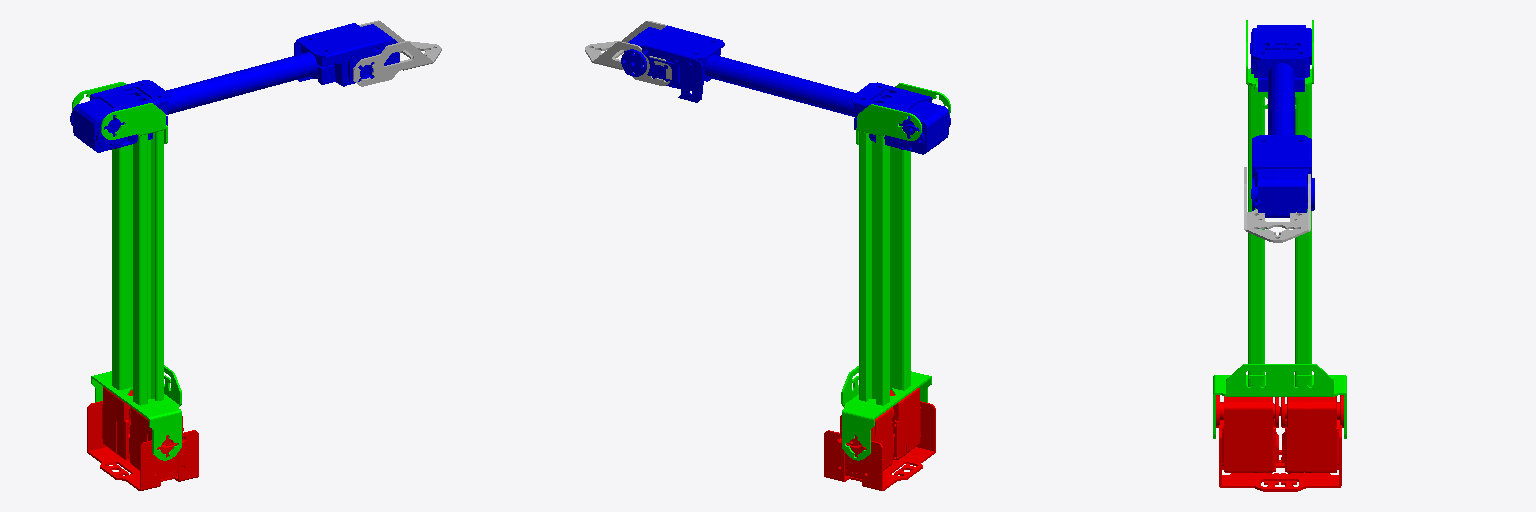
The robot description file, URDF, robot "roarm":
<?xml version="1.0" encoding="utf-8"?>
<!-- Aquí comienza el robot -->
<robot name="roarm">

 <link name="world">
    </link>

    <joint name="world_joint" type="fixed">
        <parent link="world"/>
        <child link="base_link"/>
        <origin xyz="0 0 0" rpy="0 0 0"/>
    </joint>


    <link name="base_link">
        <visual>
            <origin xyz="0.0 0.0 0.0" rpy="0 0 0" />
            <geometry>
                <mesh filename="package://roarm_description/meshes/base.stl" scale="0.001 0.001 0.001"/>
            </geometry>
            <material name="grey">
                <color rgba="0.1 0.1 0.1 1.0" />
            </material>
        </visual>
        <collision>
            <origin xyz="0.0 0.0 0.0" rpy="0 0 0" />
            <geometry>
                <mesh filename="package://roarm_description/meshes/base.stl" scale="0.001 0.001 0.001" />
            </geometry>
        </collision>
        <inertial>
            <origin xyz="0.0281 -0.0095 0.0343" rpy="0 0 0"/>
            <mass value="0.4014"/>
            <inertia ixx="0.0005189" ixy="-0.00000146" ixz="0.00000293" 
                iyy="0.0004811" iyz="0.00001726" izz="0.0002832"/>
        </inertial>
    </link>

    <link name="roarm_cintura">
        <visual>
            <origin xyz="0.0 0.0 0.0" rpy="0 0 0" />
            <geometry>
                <mesh filename="package://roarm_description/meshes/cintura.stl" scale="0.001 0.001 0.001"/>
            </geometry>
            <material name="red">
                <color rgba="1 0.0 0.0 1.0"/>
            </material>
        </visual>
        <collision>
            <origin xyz="0.0 0.0 0.0" rpy="0 0 0" />
            <geometry>
                <mesh filename="package://roarm_description/meshes/cintura.stl" xyz="0.0 0.0 0.0"/>
            </geometry>
        </collision>
        <inertial>
            <origin xyz="-0.005962 0.001535 -0.011627" rpy="0 0 0"/>
            <mass value="0.214"/>
            <inertia ixx="0.00016595" ixy="0.00000036" ixz="-0.00000003" 
                iyy="0.00006800" iyz="0.00000006" izz="0.00013722"/>
        </inertial>
    </link>

    <joint name="base_to_cintura" type="revolute">
        <parent link="base_link" />
        <child link="roarm_cintura" />
        <axis xyz="0 0 1"/>
        <limit lower="-3.14159" upper="3.14159" velocity="50.0" 
               effort="1000.0"/>
        <origin xyz="0.039 -0.0148 0.085" rpy="0 0 0"/>
    </joint>

    <link name="roarm_antebrazo">
        <visual>
            <origin xyz="0.0 0.0 0.0" rpy="0 0 0" />
            <geometry>
                <mesh filename="package://roarm_description/meshes/antebrazo.stl" scale="0.001 0.001 0.001"/>
            </geometry>
            <material name="green">
                <color rgba="0.0 1.0 0.0 1.0" />
            </material>
        </visual>
        <collision>
            <origin xyz="0.0 0.0 0.0" rpy="0 0 0" />
            <geometry>
                <mesh filename="package://roarm_description/meshes/antebrazo.stl" scale="0.001 0.001 0.001"/>
            </geometry>
        </collision>
        <inertial>
            <origin xyz="-0.000755 -0.000001 0.103638" rpy="0 0 0"/>
            <mass value="0.448"/>
            <inertia ixx="0.00220396" ixy="-0.00000012" ixz="0.00003657" 
                     iyy="0.00211515" iyz="-0.00000007" 
                     izz="0.00014311"/>
        </inertial>
    </link>

    <joint name="cintura_to_antebrazo" type="revolute">
        <parent link="roarm_cintura" />
    <child link="roarm_antebrazo" />
        <axis xyz="0 1 0"/>
        <limit lower="-5" upper="2.2" velocity="50.0" 
               effort="1000.0"/>
        <origin xyz="-0.009 0.00136 0.014135" rpy="0 0 0"/>
    </joint>

    <link name="roarm_brazo">
        <visual>
            <origin xyz="0.0 0.0 0.0" rpy="0 0 0" />
            <geometry>
                <mesh filename="package://roarm_description/meshes/brazo.stl" scale="0.001 0.001 0.001"/>
            </geometry>
            <material name="blue">
                <color rgba="0.0 0.0 1.0 1.0" />
            </material>
        </visual>
        <collision>
            <origin xyz="0.0 0.0 0.0" rpy="0 0 0" />
            <geometry>
                <mesh filename="package://roarm_description/meshes/brazo.stl" scale="0.001 0.001 0.001"/>
            </geometry>
        </collision>
        <inertial>
            <origin xyz="0.0354 0.0 0.0520" rpy="0 0 0"/>
            <mass value="0.230"/>
            <inertia ixx="0.000785" ixy="-0.00000002" ixz="-0.0000184" 
                     iyy="0.000758" iyz="0.00000005" 
                     izz="0.0000652"/>
        </inertial>
    </link>

    <joint name="antebrazo_to_brazo" type="revolute">
        <parent link="roarm_antebrazo" />
        <child link="roarm_brazo" />
        <axis xyz="0 1 0"/>
        <limit lower="-4.5" upper="1.5" velocity="50.0" 
               effort="1000.0"/>
        <origin xyz="-0.01 0.0 0.21" rpy="0 0 0"/>
    </joint>

    <link name="roarm_gripper">
        <visual>
        <origin xyz="0.6 -0.65 0.0 " rpy="0 3.14159 0" />
            <geometry>
                <mesh filename="package://roarm_description/meshes/gripper.stl" scale="0.001 0.001 0.001"/>
            </geometry>
            <material name="silver">
                <color rgba="0.75 0.75 0.75 1.0"/>
            </material>
        </visual>
    </link>

    <joint name="brazo_to_gripper" type="fixed">
        <parent link="roarm_brazo" />
        <child link="roarm_gripper" />
        <origin xyz="0.2 0.0 0.0 " rpy="0 0 0"/>
    </joint>




</robot>

--- Render facts (derived) ---
Views: 3 orthographic renders of the robot side by side, from view 1: azimuth 30°, elevation 25°; view 2: azimuth 150°, elevation 25°; view 3: azimuth 270°, elevation 25°.
Model roarm with 6 links and 5 joints (3 revolute, 2 fixed), rooted at world, posed every joint at zero.
Visible links, largest first — view 1: roarm_antebrazo, roarm_brazo, roarm_cintura, roarm_gripper; view 2: roarm_antebrazo, roarm_brazo, roarm_cintura, roarm_gripper; view 3: roarm_cintura, roarm_antebrazo, roarm_brazo, roarm_gripper.
Link boxes in pixels (bbox=[...]): roarm_antebrazo: bbox=[72, 82, 181, 460]; roarm_brazo: bbox=[70, 23, 399, 152]; roarm_cintura: bbox=[87, 387, 198, 490]; roarm_gripper: bbox=[353, 20, 441, 86]; roarm_antebrazo: bbox=[841, 83, 950, 460]; roarm_brazo: bbox=[621, 25, 950, 154]; roarm_cintura: bbox=[824, 388, 935, 490]; roarm_gripper: bbox=[585, 21, 671, 85]; roarm_cintura: bbox=[1216, 395, 1343, 491]; roarm_antebrazo: bbox=[1213, 20, 1346, 438]; roarm_brazo: bbox=[1250, 25, 1314, 217]; roarm_gripper: bbox=[1244, 167, 1310, 242].
Size in the robot's own frame: 0.2751 by 0.079 by 0.2802 metres.
Meshes: 5 distinct files referenced, 4 mesh visuals loaded (4 binary STL); not drawn: 1 (reference not matched to a file when rendering).
